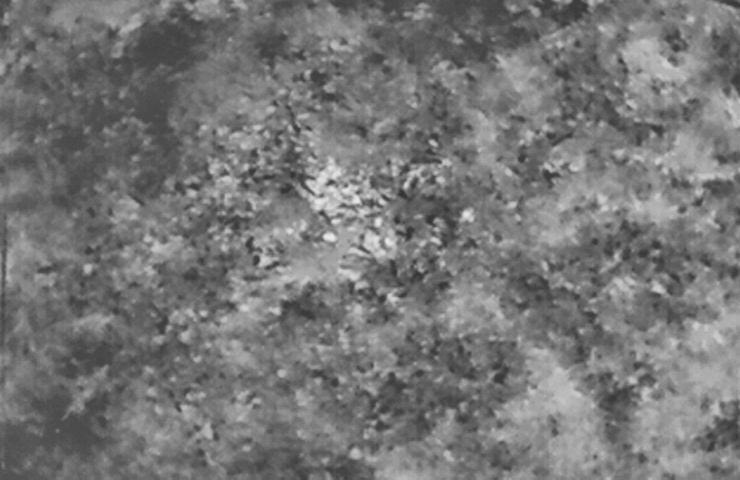landmines: (301, 155, 387, 226)
